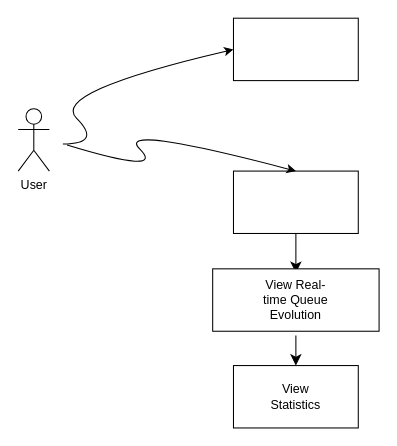
Image size: 397x446. Some labels were removed from this diagram. The centre of each missing label's shape, as x and y in pixels:
"Set up Simulation" belongs at [295,49].
"Start Simulation" belongs at [295,201].
